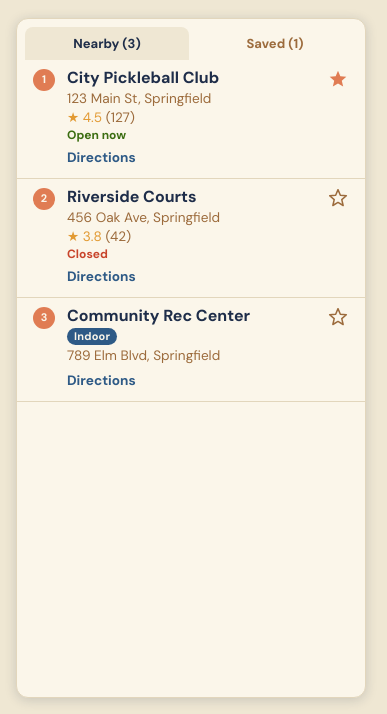
it: CourtList › shows saved courts under the Saved tab
Click the tab "Saved (1)".
click(275, 44)  # box [193, 27, 357, 60]
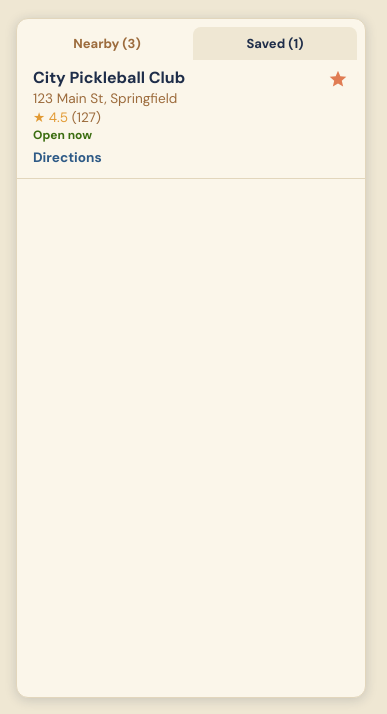
Expected: the text "City Pickleball Club" is shown, [33, 67, 185, 88]
Expected: the text "Riverside Courts" is gone
